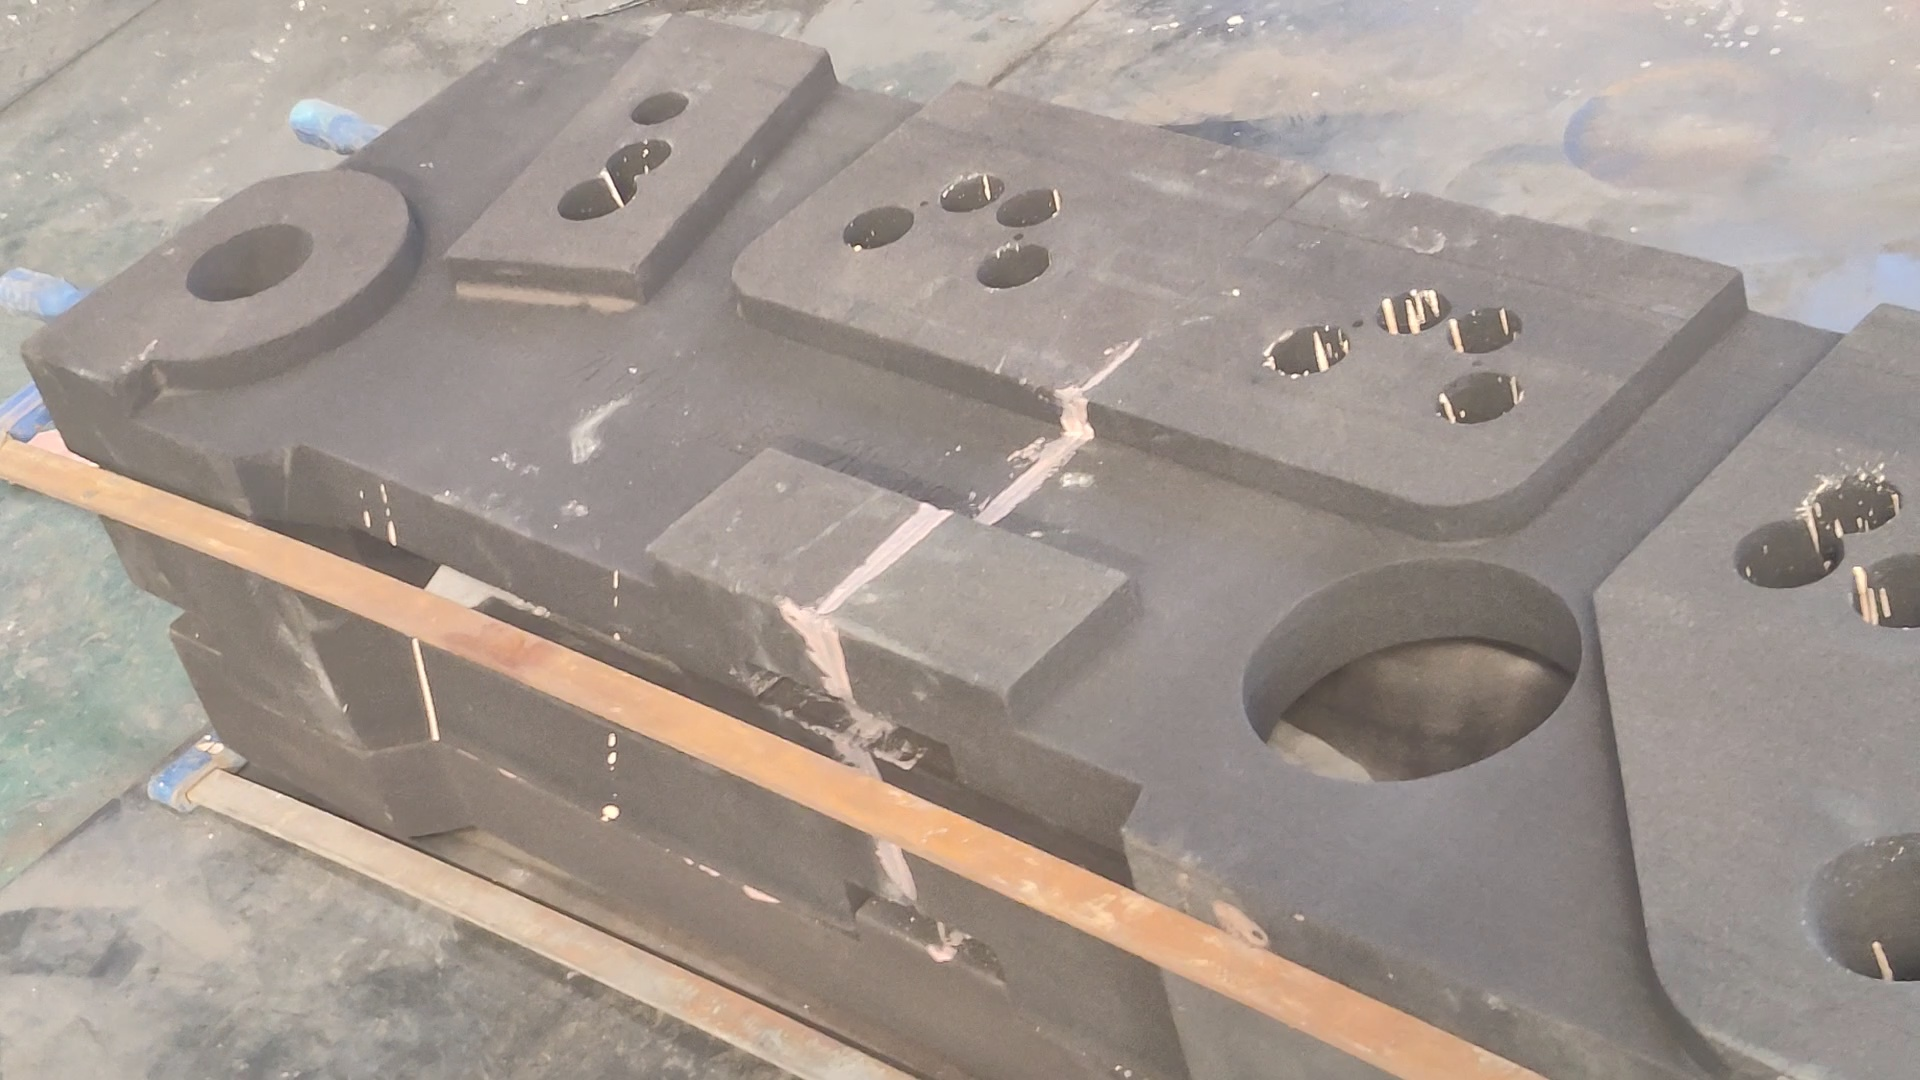pouring hole: (1803, 832, 1920, 982), (185, 222, 315, 305)
